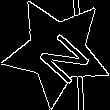N_NW: (25, 19, 88, 83)
